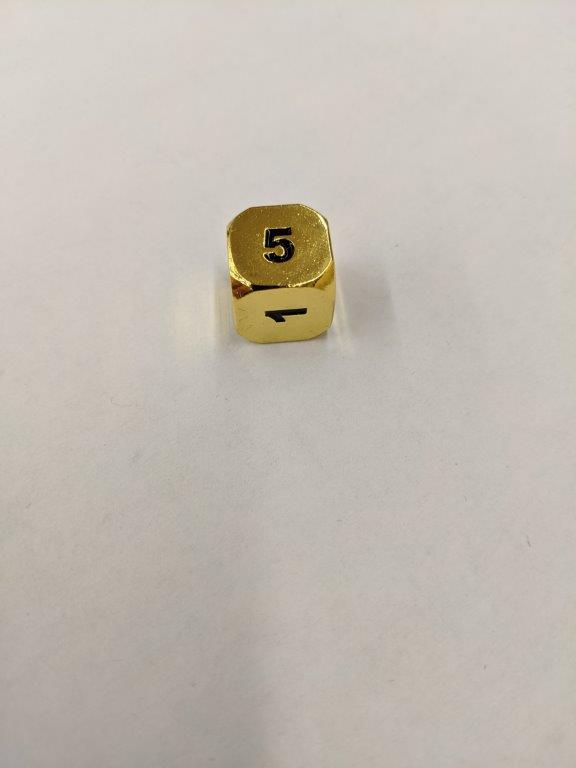d6-5: (224, 201, 338, 349)
